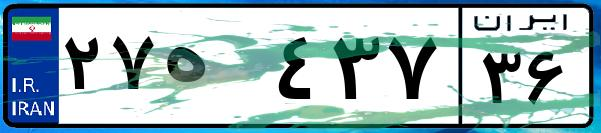2: (57, 26, 110, 100)
3: (330, 28, 385, 110), (475, 38, 525, 113)
4: (270, 28, 330, 110)
6: (525, 38, 570, 115)
7: (385, 28, 445, 110), (110, 28, 158, 98)
ه: (158, 20, 270, 120)
